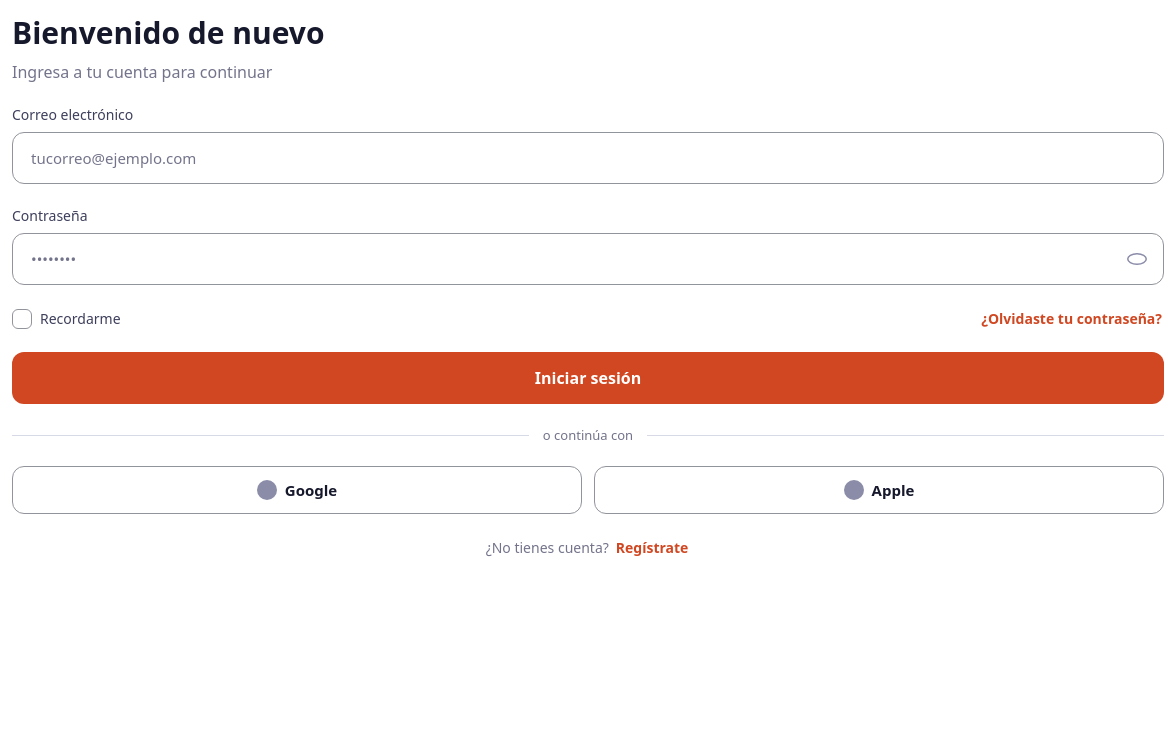
Test: LoginForm · US2 Retroalimentación ante credenciales incorrectas › US2-3: editar un campo oculta el error
Type "steven.luna@example.test" into the field labelled "Correo electrónico".
click(588, 158); type("steven.luna@example.test")  # box [29, 133, 1147, 183]
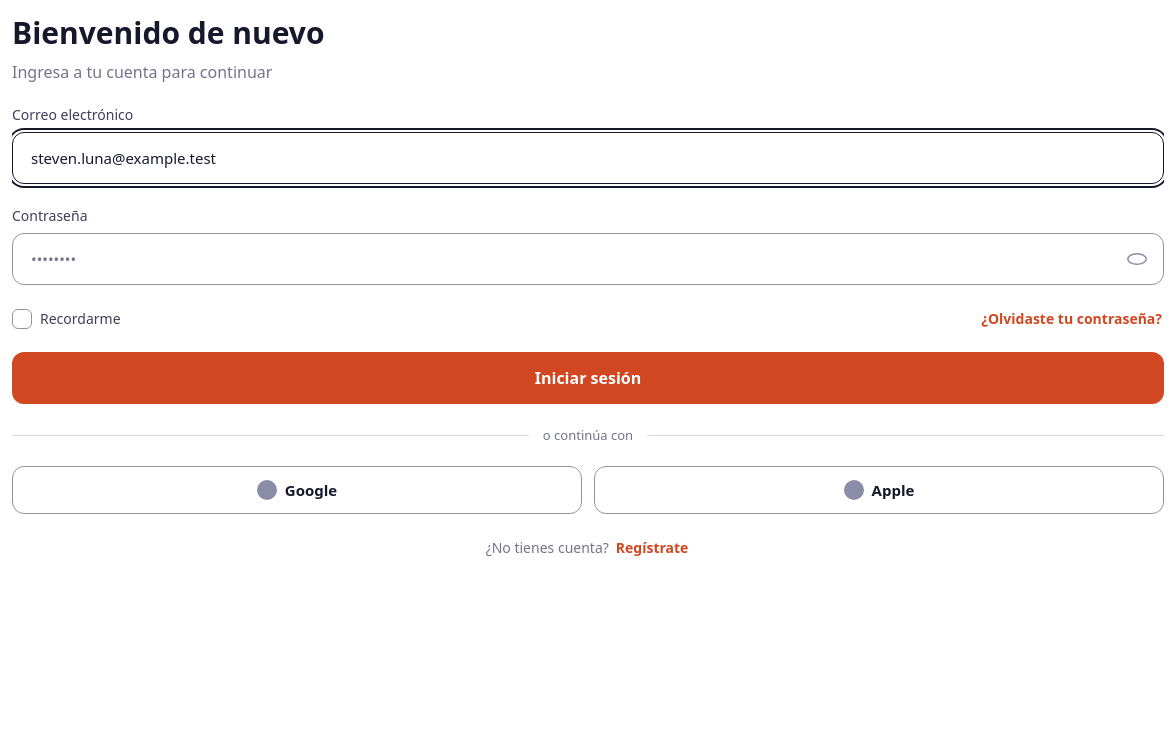
Type "otra-clave-99" into the password field labelled "Contraseña".
click(571, 259); type("otra-clave-99")  # box [29, 234, 1113, 284]
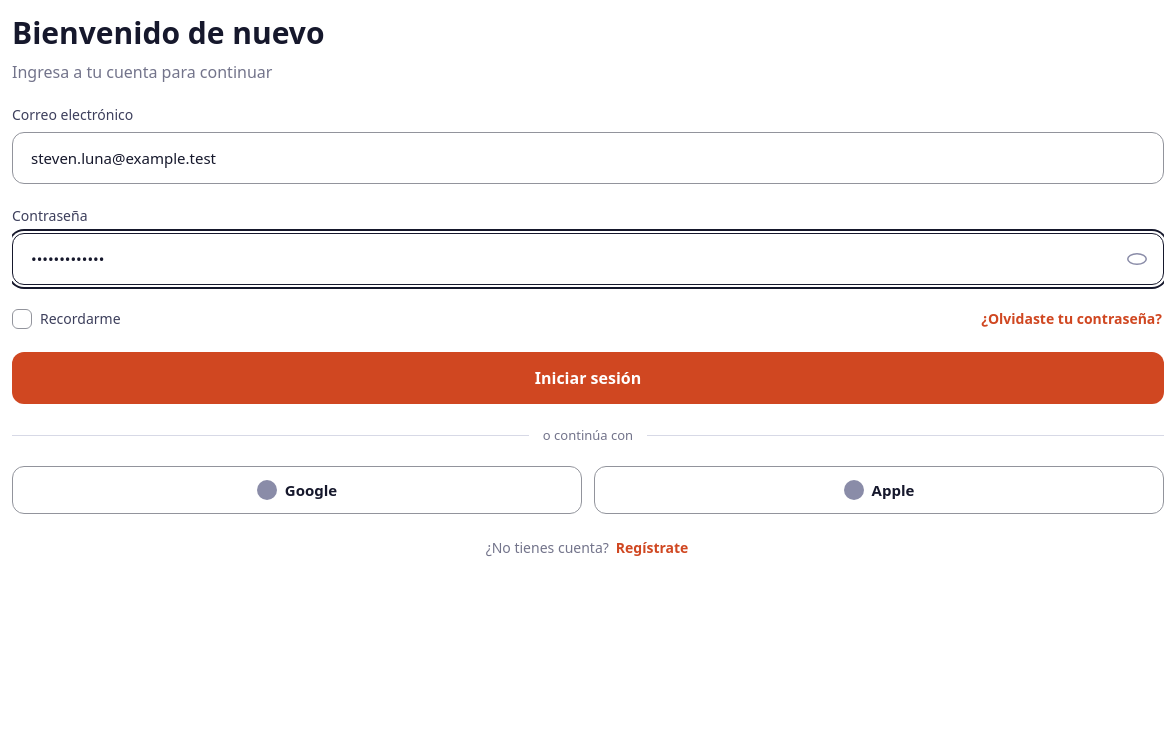
Click the button "Iniciar sesión".
click(588, 378)  # box [12, 352, 1164, 404]
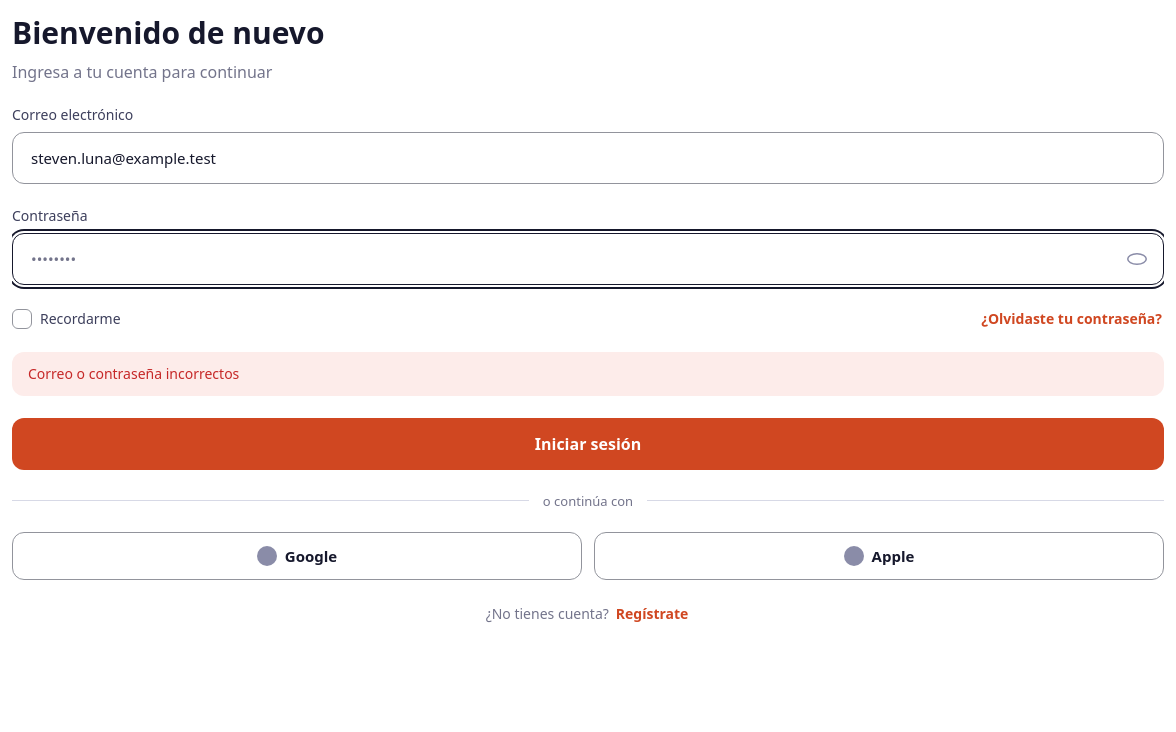
Check: the message "Correo o contraseña incorrectos" is shown, box [12, 352, 1164, 396]
Type "n" into the password field labelled "Contraseña".
click(571, 259); type("n")  # box [29, 234, 1113, 284]
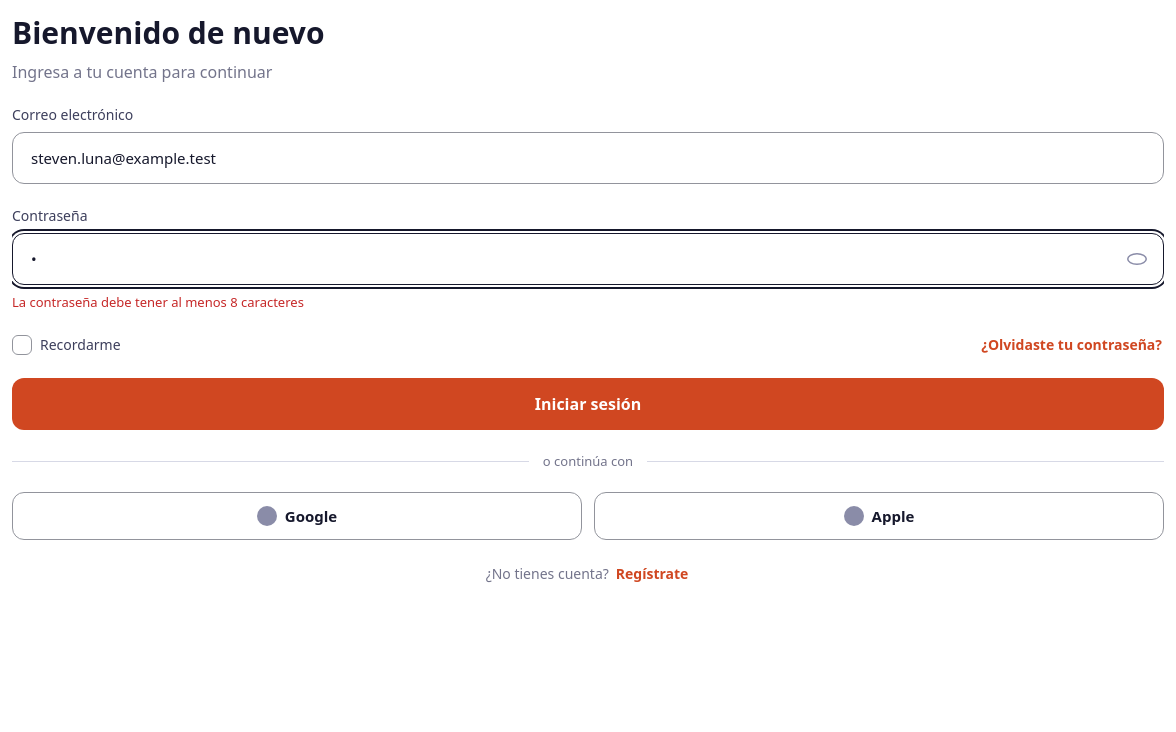
Check: the message "Correo o contraseña incorrectos" is gone
